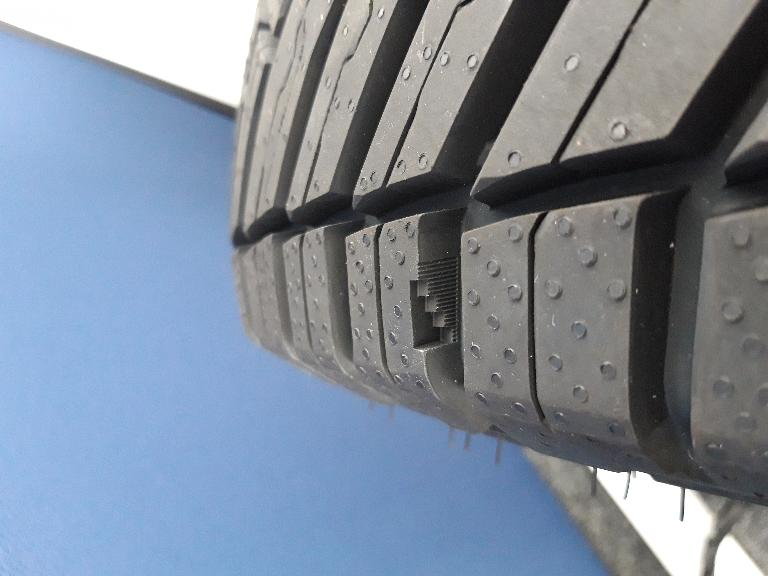temoin:100: (408, 255, 460, 354)
